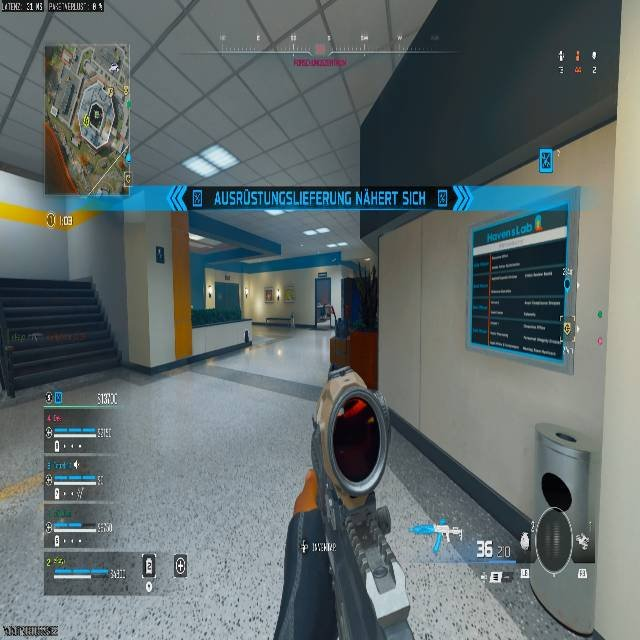player: (315, 300, 335, 326)
